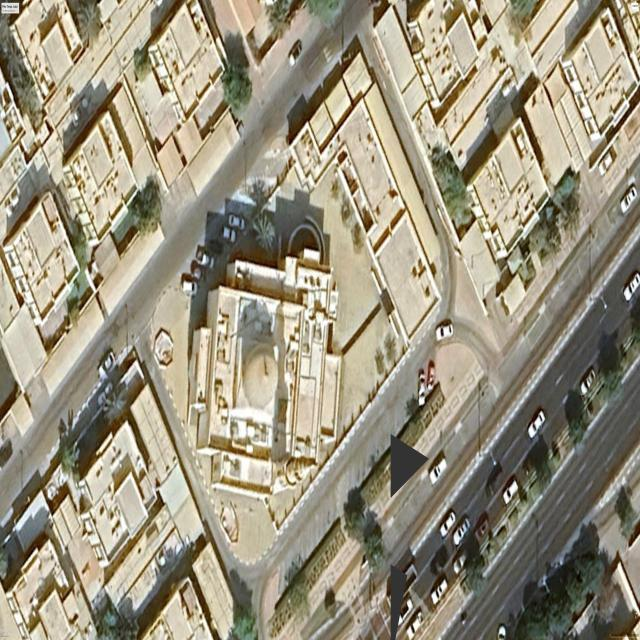mosque: (189, 250, 341, 493)
